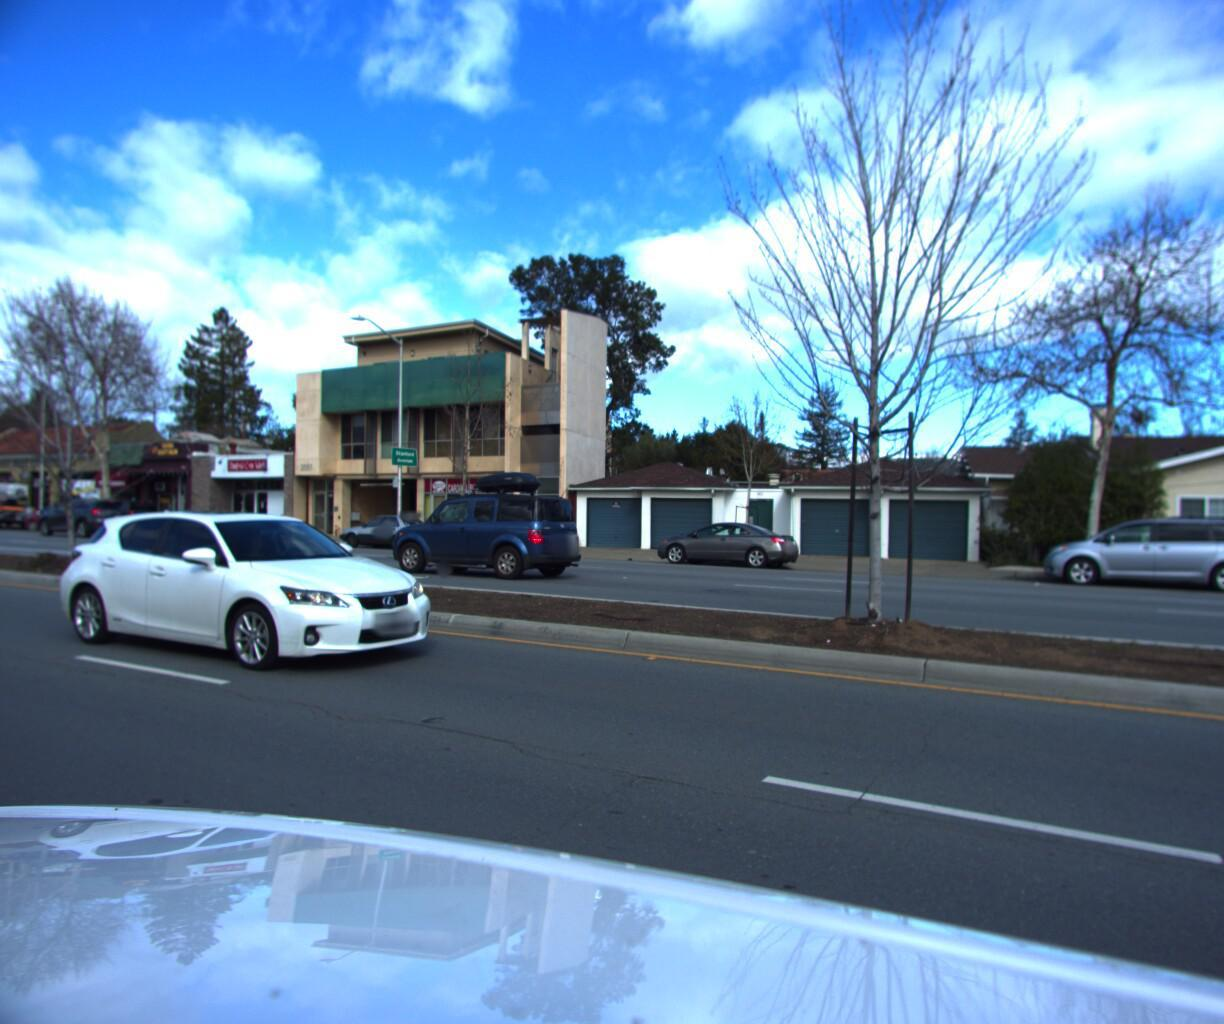car: (49, 510, 461, 688), (375, 472, 597, 584), (1031, 511, 1224, 596), (646, 521, 803, 573), (328, 517, 443, 554), (35, 503, 141, 543), (77, 505, 180, 542), (16, 498, 106, 539), (144, 513, 251, 545)
